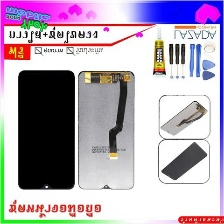phone: (13, 68, 76, 194), (76, 68, 138, 192), (159, 140, 210, 183), (160, 97, 209, 137)
